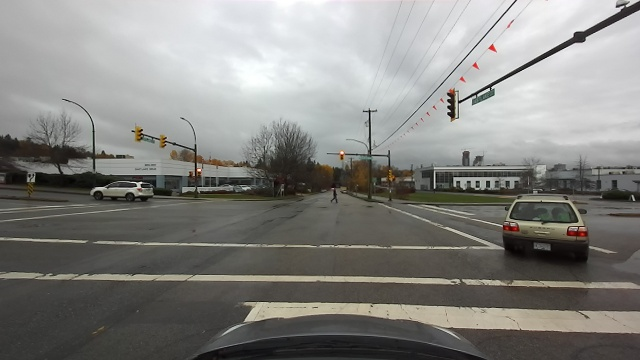car: (501, 189, 595, 265), (86, 177, 158, 202), (227, 184, 247, 194)
